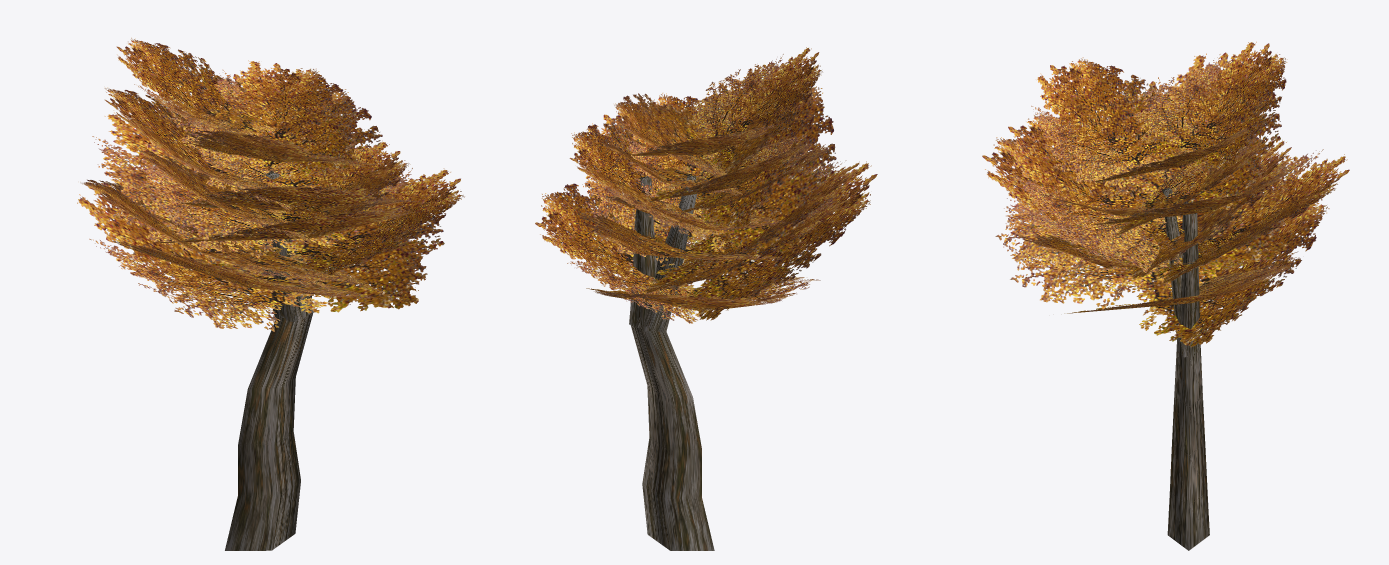
Rendered from tree111.glb.
3 views of the same model, side by side, from view 1: azimuth 30°, elevation 25°; view 2: azimuth 150°, elevation 25°; view 3: azimuth 270°, elevation 25° (orthographic). The views are drawn at different scales.
Visible parts, largest first — view 1: foliage.1, tree11-col; view 2: foliage.1, tree11-col; view 3: foliage.1, tree11-col.
Part boxes in pixels (left/top/right/bottom): foliage.1: left=77, top=37, right=464, bottom=331; tree11-col: left=225, top=168, right=313, bottom=550; foliage.1: left=535, top=47, right=877, bottom=323; tree11-col: left=629, top=175, right=714, bottom=550; foliage.1: left=982, top=41, right=1349, bottom=347; tree11-col: left=1162, top=185, right=1209, bottom=550.
Size of the model in its own units: 10.02 by 11.58 by 10.19.
Materials: 2 (2 with a texture image).
